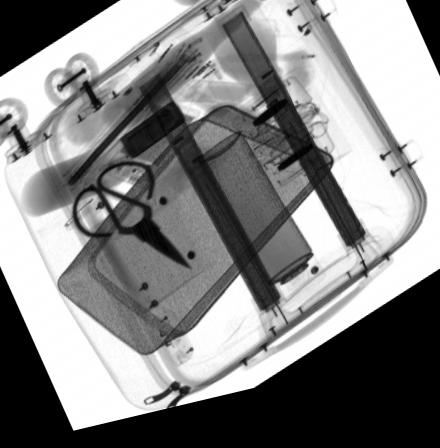Lighter: (122, 108, 185, 165)
Powerbank: (96, 110, 200, 193)
Scissors: (72, 166, 193, 277)
Sprayer: (199, 141, 325, 318)
